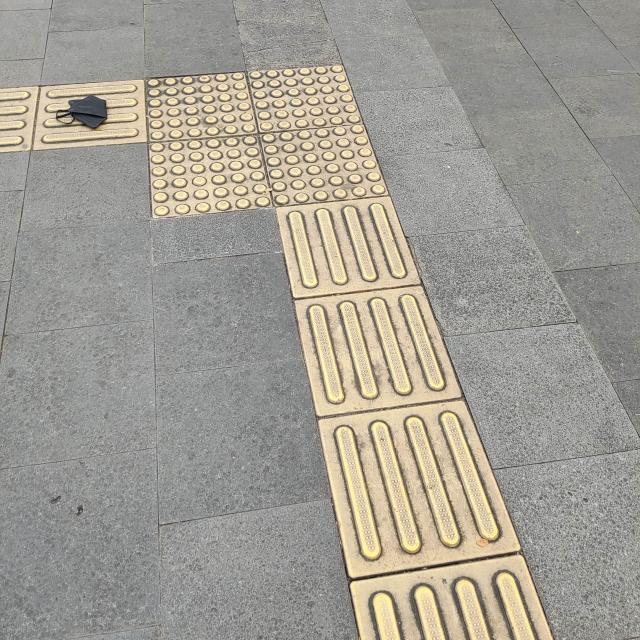kiri: (0, 36, 437, 235)
